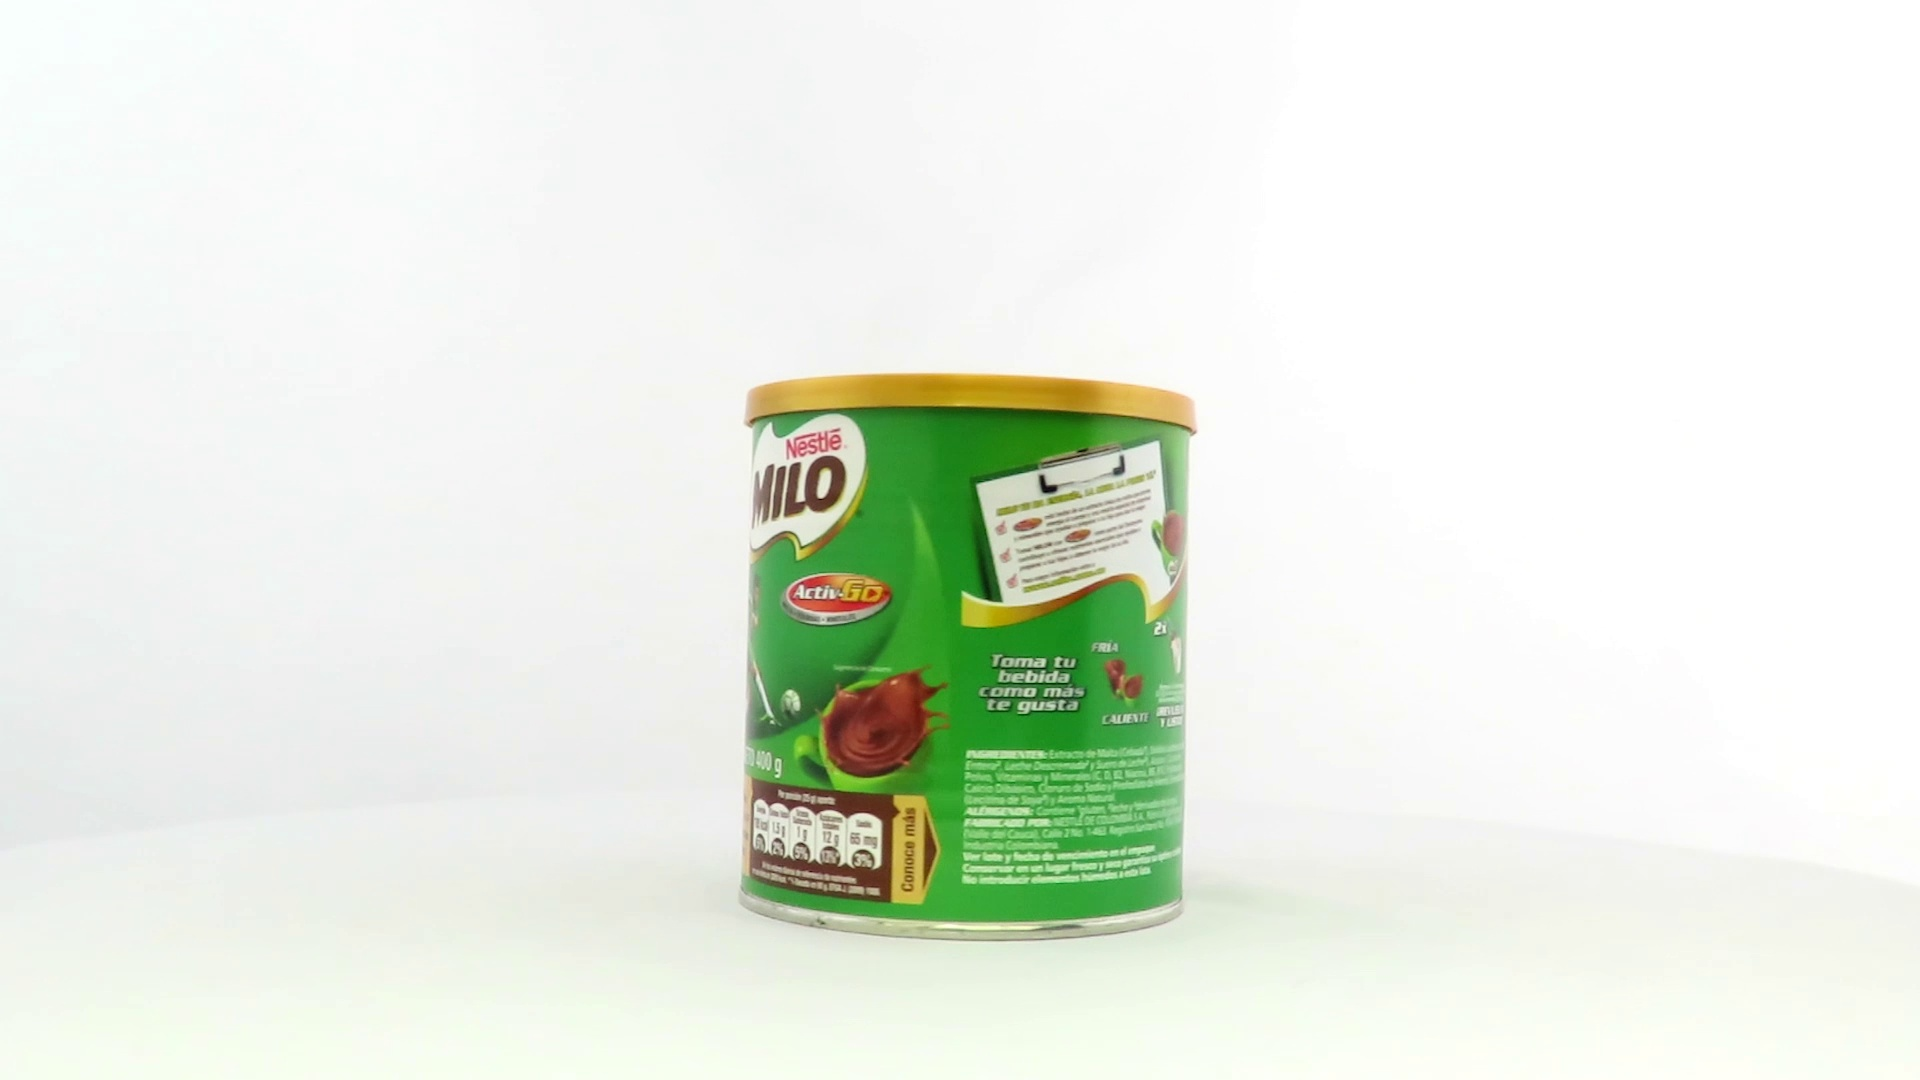COL0170203LAT40000: (733, 368, 1203, 948)
